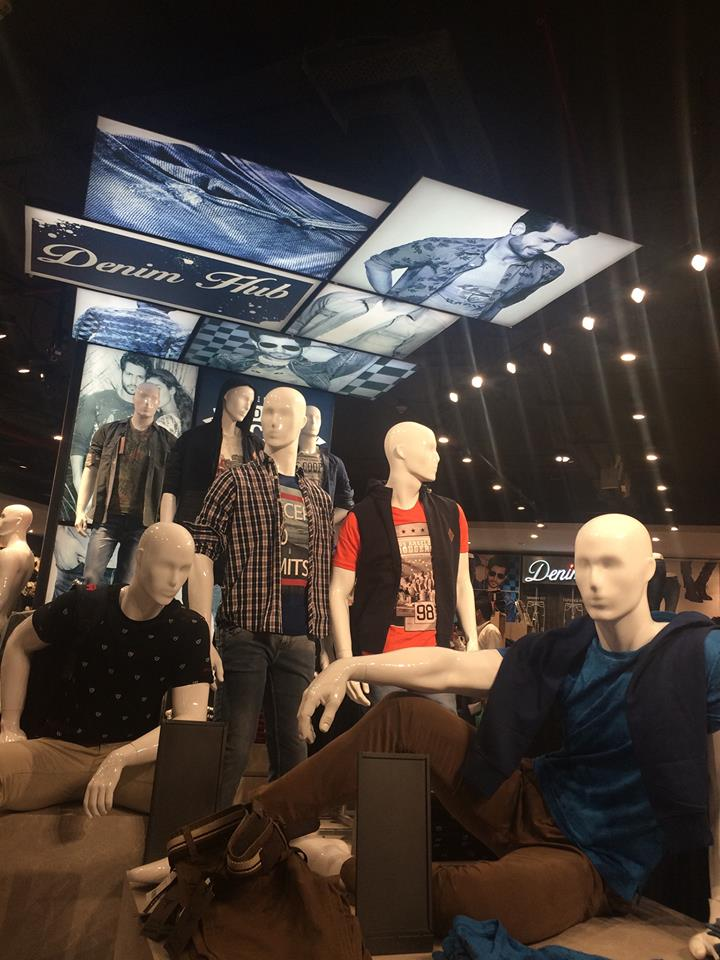Not_Face: (241, 399, 313, 456), (388, 434, 443, 492)
